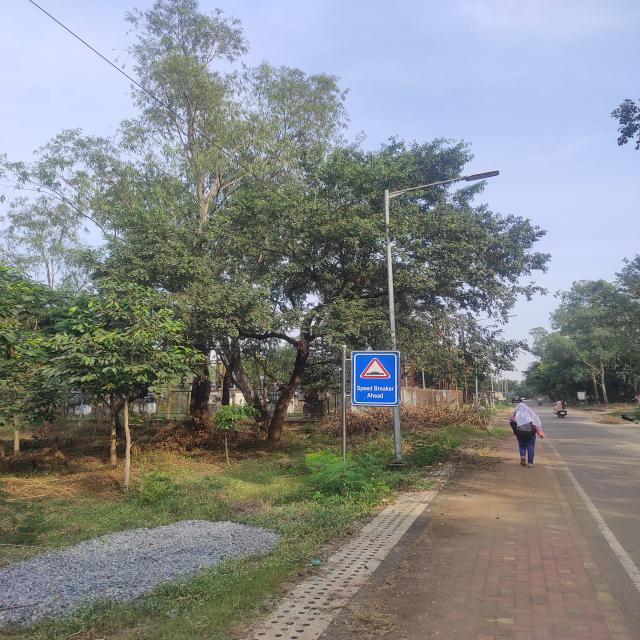Neem Tree: (288, 153, 526, 345)
